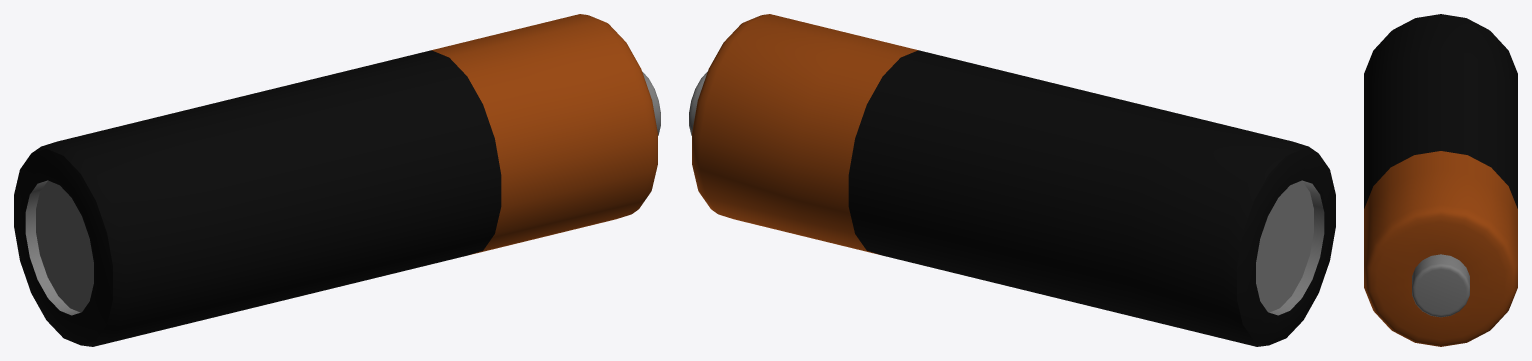
The model's file is PILA.fbx.
3 views of the same model, side by side, from view 1: azimuth 30°, elevation 25°; view 2: azimuth 150°, elevation 25°; view 3: azimuth 270°, elevation 25° (orthographic). The views are drawn at different scales.
Visible parts, largest first — view 1: Cylinder001; view 2: Cylinder001; view 3: Cylinder001.
Boxes of the visible parts, x1,y1,x2,y2 form: Cylinder001: (14,14,660,346); Cylinder001: (689,14,1335,346); Cylinder001: (1364,14,1517,346).
Bounding box in the file's own units: 0.5965 × 0.1861 × 0.1833.
